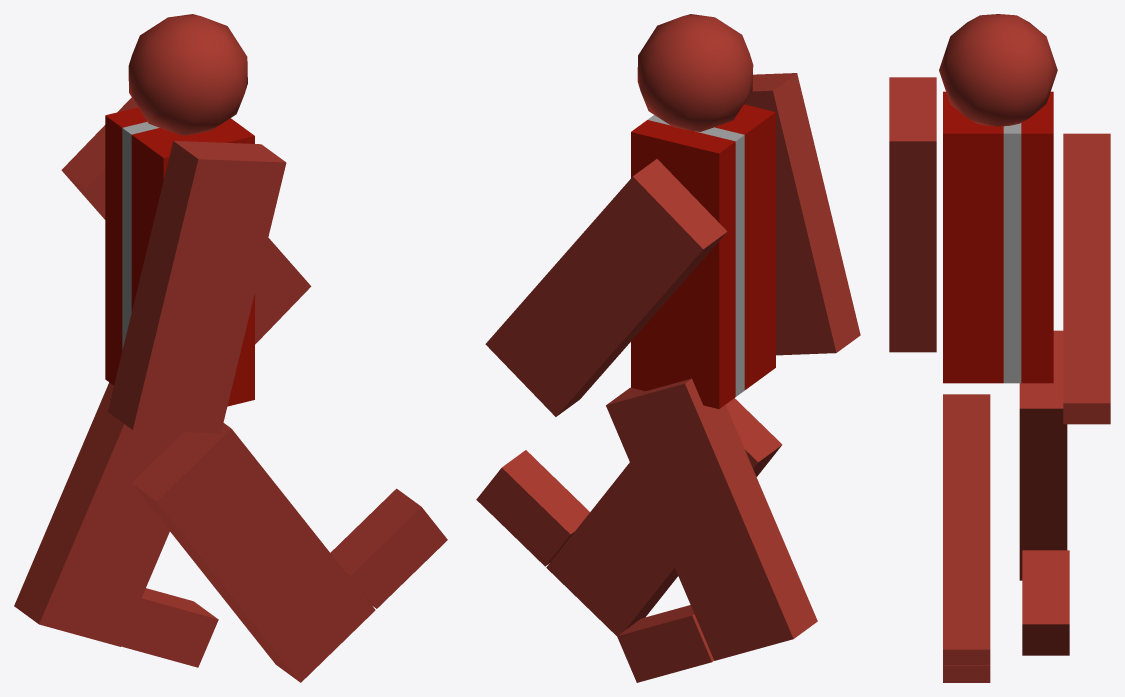
Rendered from player_000025.obj.
3 renders of one model, left to right at view 1: azimuth 30°, elevation 25°; view 2: azimuth 150°, elevation 25°; view 3: azimuth 270°, elevation 25°, orthographic. The views are drawn at different scales.
Parts seen in each view (by area): view 1: Cube.013, Cube.010, Cube.008, Cube.007, Icosphere.001, Cube.011, Cube.012, Cube.009; view 2: Cube.008, Cube.007, Cube.012, Cube.013, Cube.010, Icosphere.001, Cube.011, Cube.009; view 3: Cube.007, Cube.012, Cube.013, Cube.010, Icosphere.001, Cube.008, Cube.009, Cube.011.
Boxes of the visible parts, x1,y1,x2,y2 form: Cube.013: (107, 141, 286, 433); Cube.010: (132, 423, 375, 682); Cube.008: (14, 382, 183, 646); Cube.007: (105, 107, 254, 406); Icosphere.001: (128, 14, 247, 135); Cube.011: (330, 488, 447, 608); Cube.012: (61, 97, 311, 344); Cube.009: (121, 588, 218, 667); Cube.008: (606, 378, 817, 660); Cube.007: (631, 104, 775, 408); Cube.012: (485, 159, 727, 416); Cube.013: (744, 73, 860, 355); Cube.010: (546, 398, 782, 635); Icosphere.001: (637, 14, 753, 131); Cube.011: (476, 450, 589, 566); Cube.009: (617, 605, 713, 682); Cube.007: (943, 91, 1053, 383); Cube.012: (1063, 133, 1110, 424); Cube.013: (889, 77, 936, 352); Cube.010: (943, 394, 990, 682); Icosphere.001: (939, 14, 1057, 126); Cube.008: (1019, 330, 1067, 580); Cube.009: (1022, 550, 1069, 655); Cube.011: (943, 600, 990, 665).
Size of the model in its own units: 1.66 by 2.86 by 0.9137.
